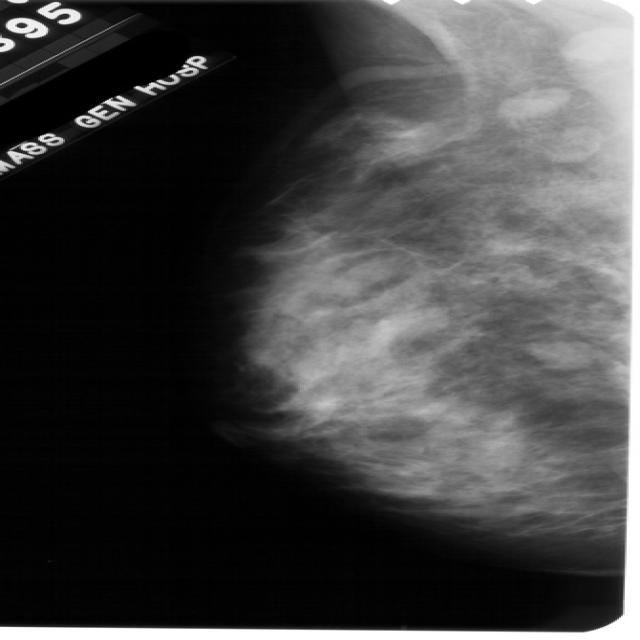tumour: (375, 307, 445, 338)
